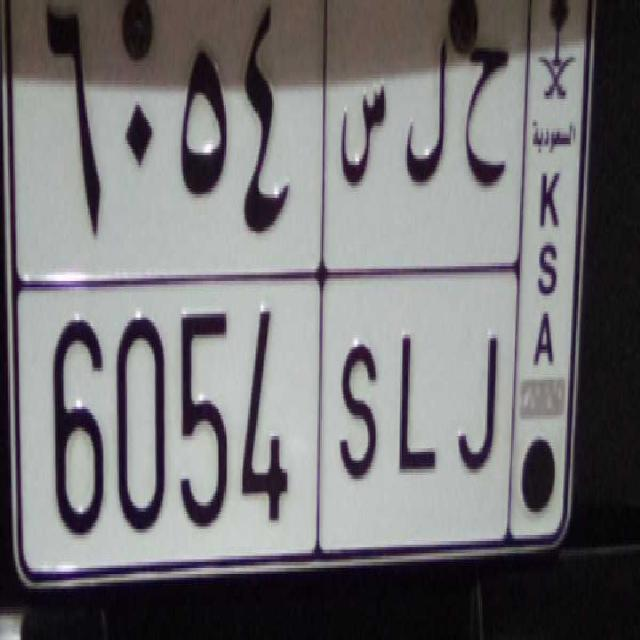license_plate: (13, 271, 515, 558)
